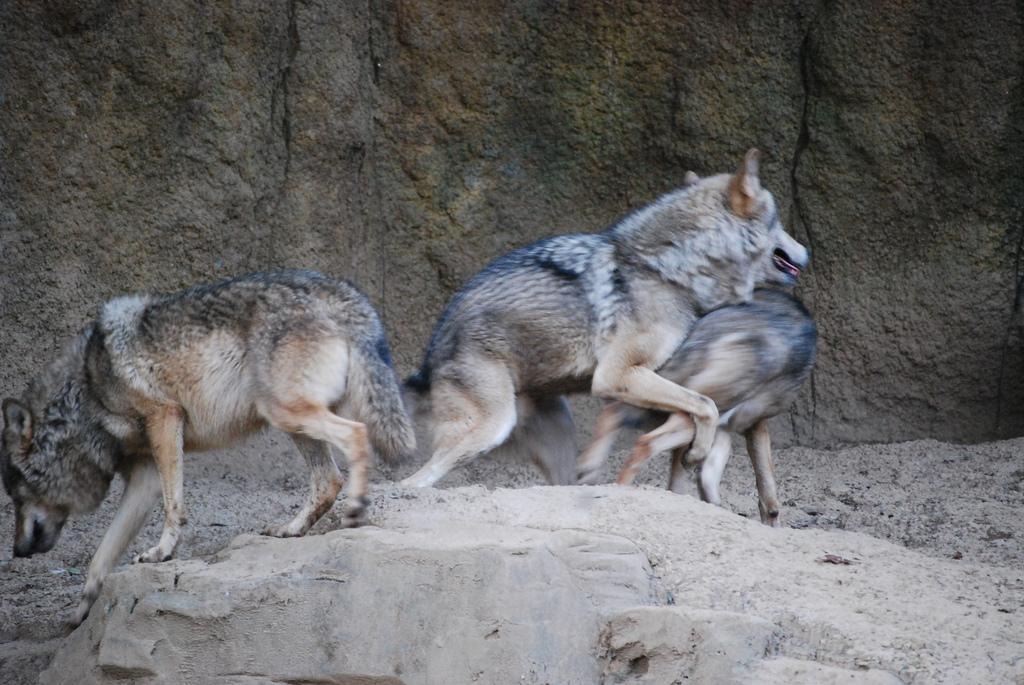Wolf: (0, 270, 420, 627), (405, 148, 814, 504), (575, 283, 810, 518)
